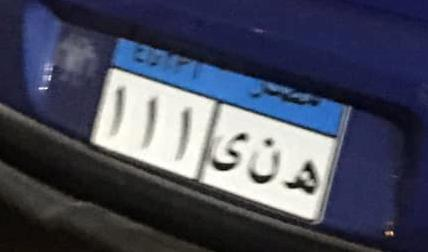1: (165, 98, 203, 163), (131, 92, 168, 148), (98, 79, 134, 136)
ن: (236, 133, 295, 180)
ه: (266, 155, 330, 204)
ي: (194, 128, 248, 173)
